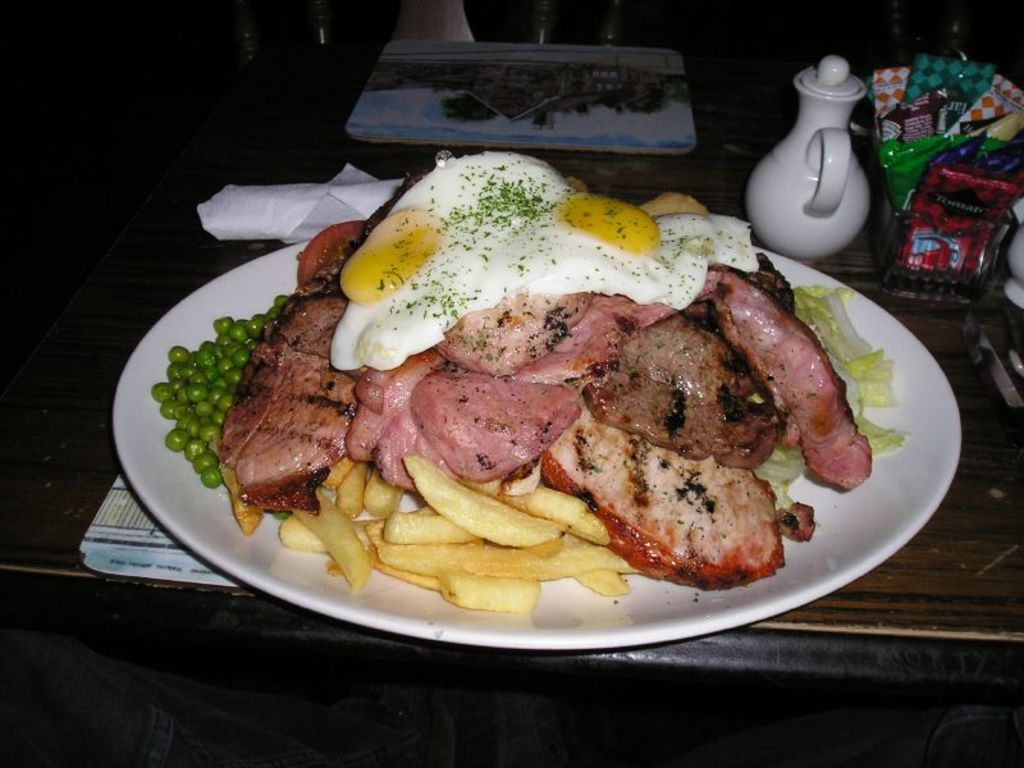French fries: (307, 451, 665, 613)
